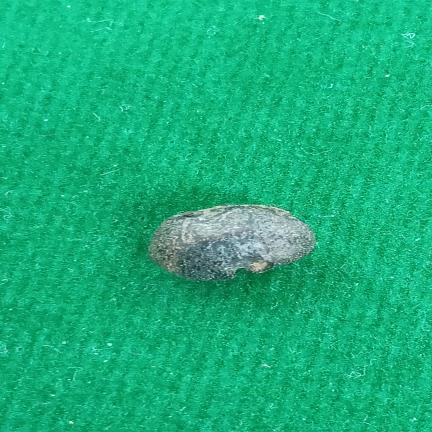partial-black: (149, 205, 315, 281)
